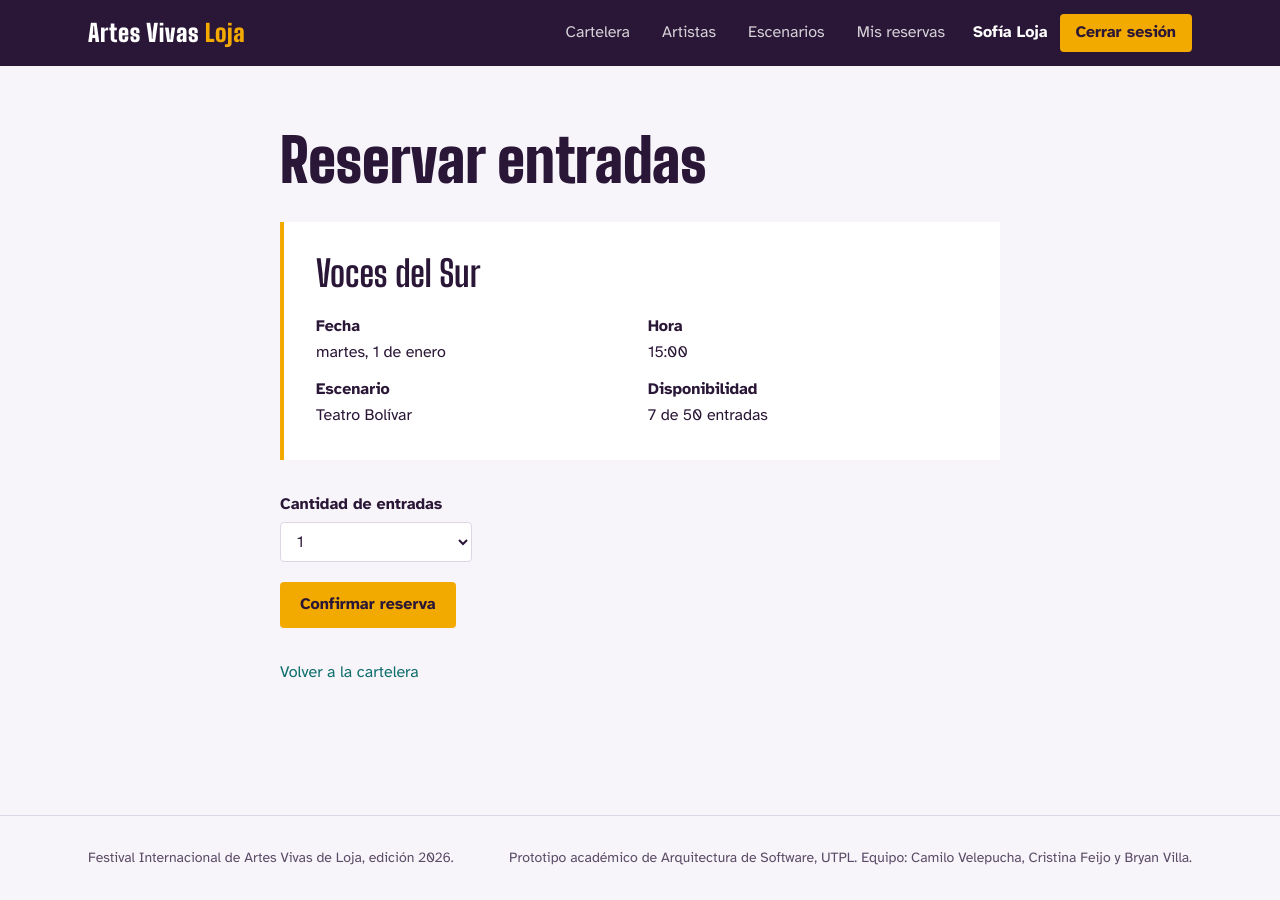
Test case: ReservePage › muestra la función, permite elegir cantidad y confirma con el código
expect the heading "Voces del Sur" is shown: met, box [316,252,480,295]
expect the text "Teatro Bolívar" is shown: met, box [316,405,412,425]
Select "2" in the dropdown labelled "Cantidad de entradas" at (376, 542), box [280,522,472,562]
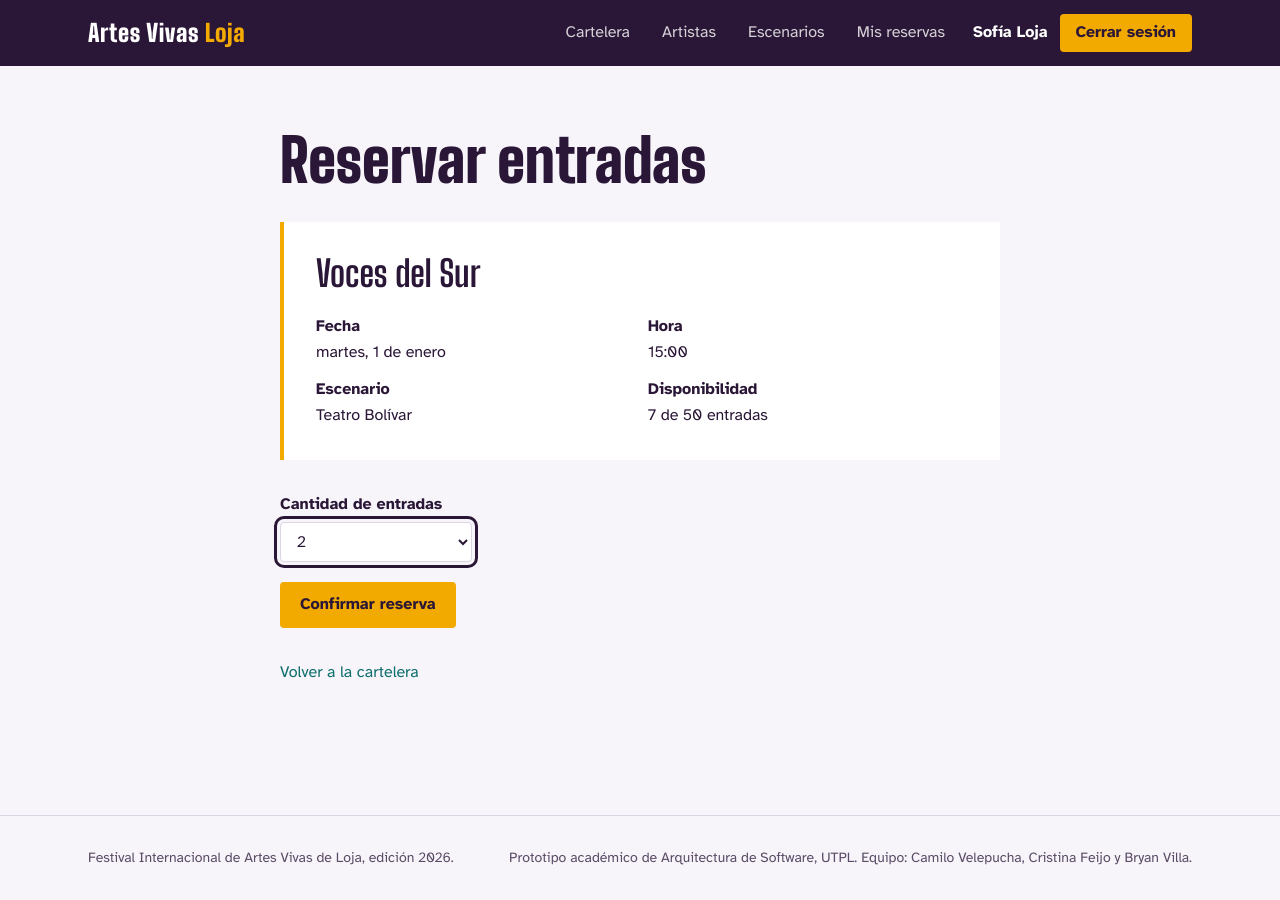
Click the button "Confirmar reserva".
click(368, 605)  # box [280,582,456,628]
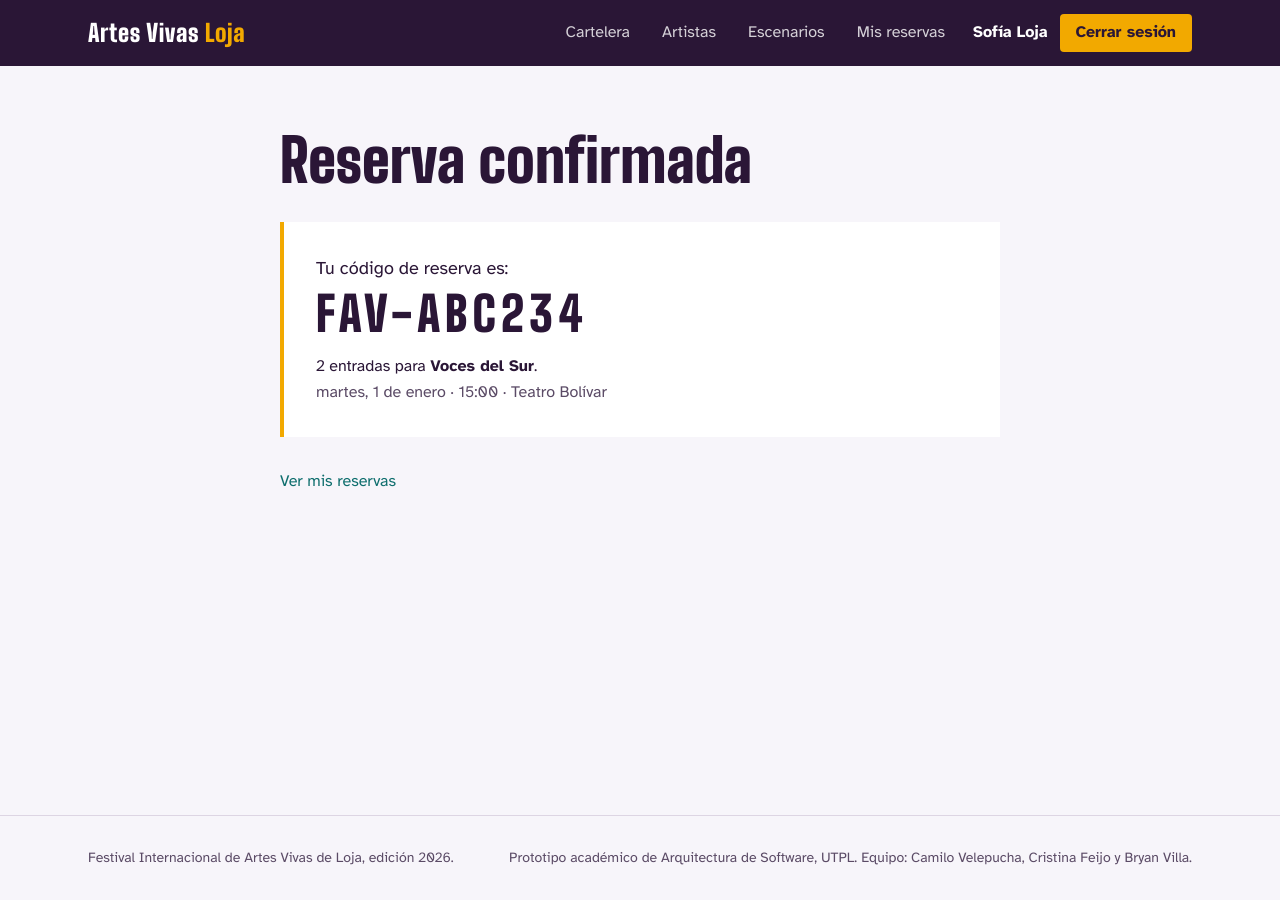
expect the heading "Reserva confirmada" is shown: met, box [280,124,752,196]
expect the text "FAV-ABC234" is shown: met, box [316,285,587,342]
